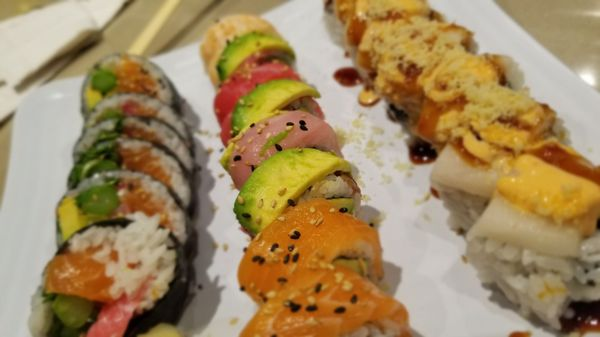soup: (29, 52, 198, 332)
